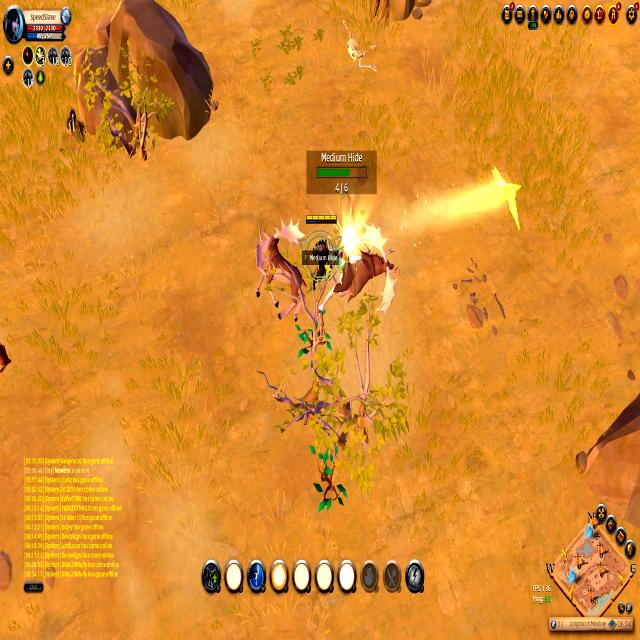mob: (318, 221, 399, 317), (252, 214, 304, 306)
player: (62, 106, 87, 151)
red: (305, 212, 337, 280)
